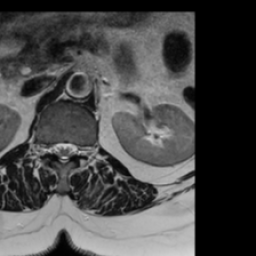CCS_normal: (61, 137, 68, 168)
LFS_normal: (76, 139, 85, 162)
LLS_normal: (68, 137, 76, 161)
RFS_normal: (42, 137, 52, 161)
RLS_normal: (52, 137, 61, 161)
